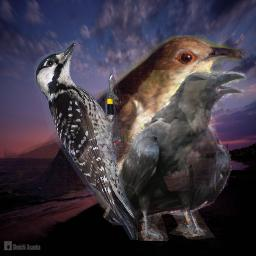Crow: (103, 70, 246, 241)
Cuckoo: (4, 35, 245, 211)
Woodpecker: (34, 40, 138, 240)
